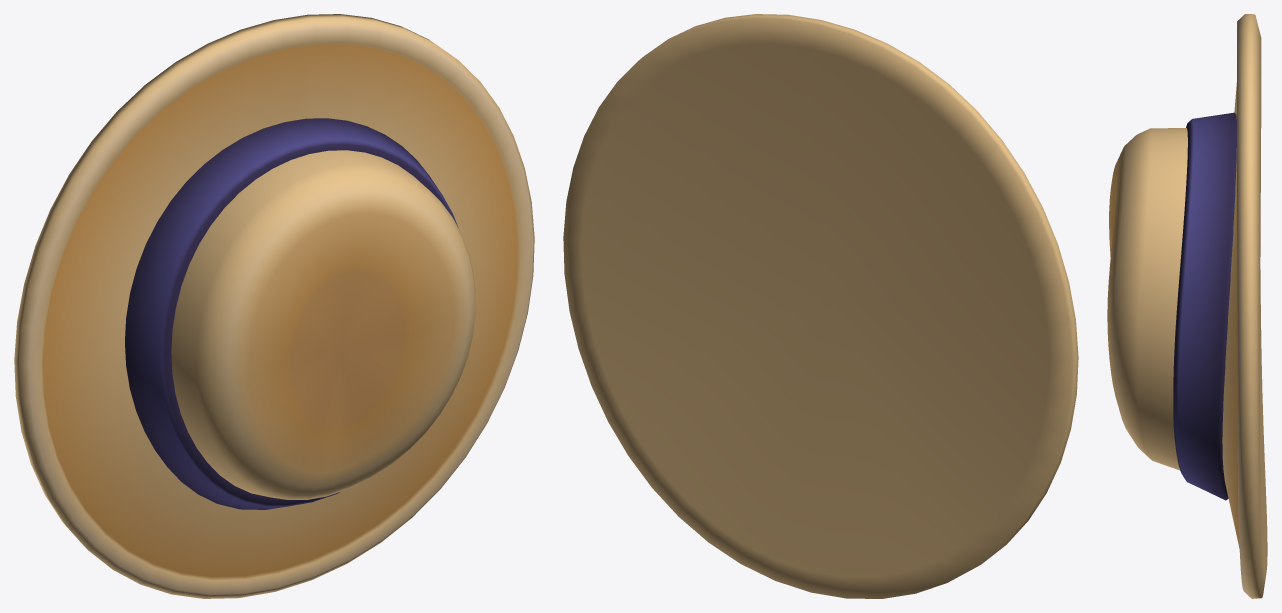
The model's file is hat.fbx.
3 views of the same model, side by side, from view 1: azimuth 30°, elevation 25°; view 2: azimuth 150°, elevation 25°; view 3: azimuth 270°, elevation 25° (orthographic). The views are drawn at different scales.
Visible parts, largest first — view 1: hat; view 2: hat; view 3: hat.
Boxes of the visible parts, x1,y1,x2,y2 form: hat: [14, 14, 534, 598]; hat: [563, 14, 1078, 598]; hat: [1107, 14, 1267, 598].
Size of the model in its own units: 1.27 by 1.35 by 0.3675.
